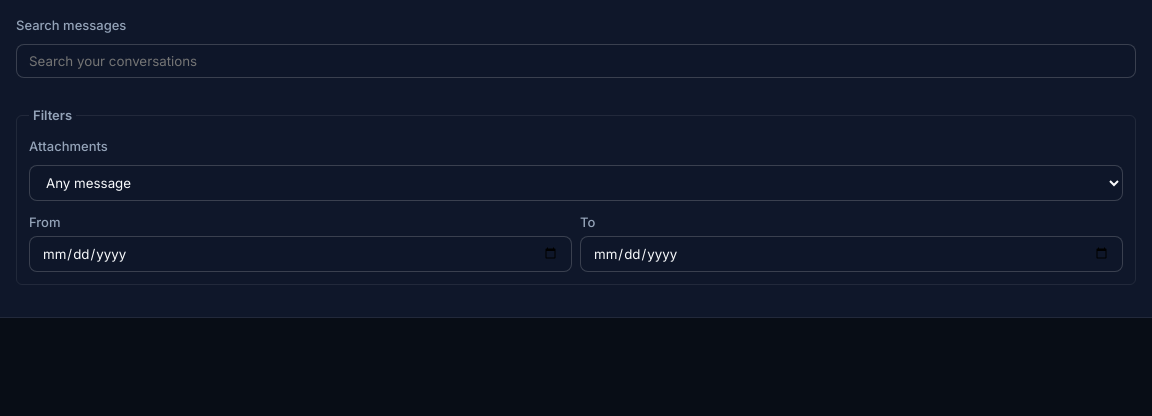
Test: querying › hides previous results once the query becomes too short again
The width and height of the screenshot is (1152, 416).
Type "deploy" into the search field with test id "search-input". click: point(576, 60)
box: [16,44,1136,78]
Wait 300 ms
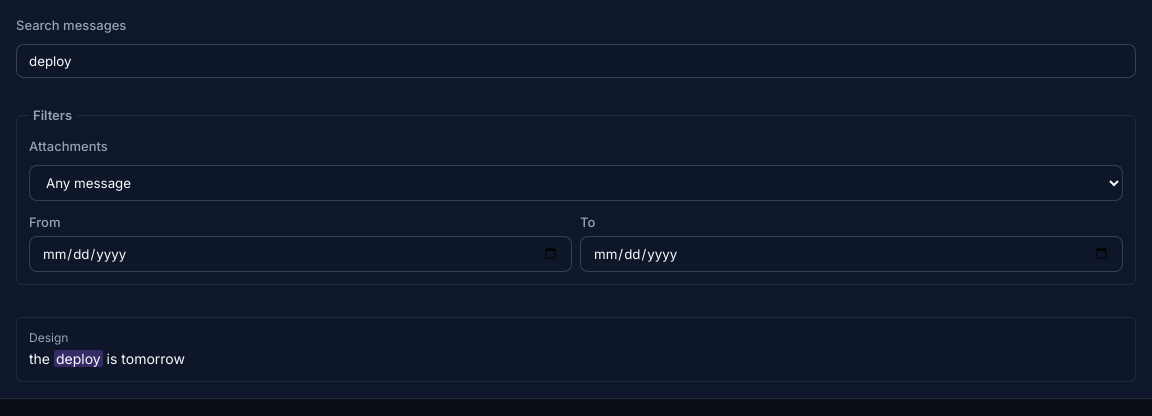
Result: the list with test id "search-results" is shown at [16,317,1136,382]
Replace the text in the search field with test id "search-input" with "d". click: point(576, 60)
box: [16,44,1136,78]
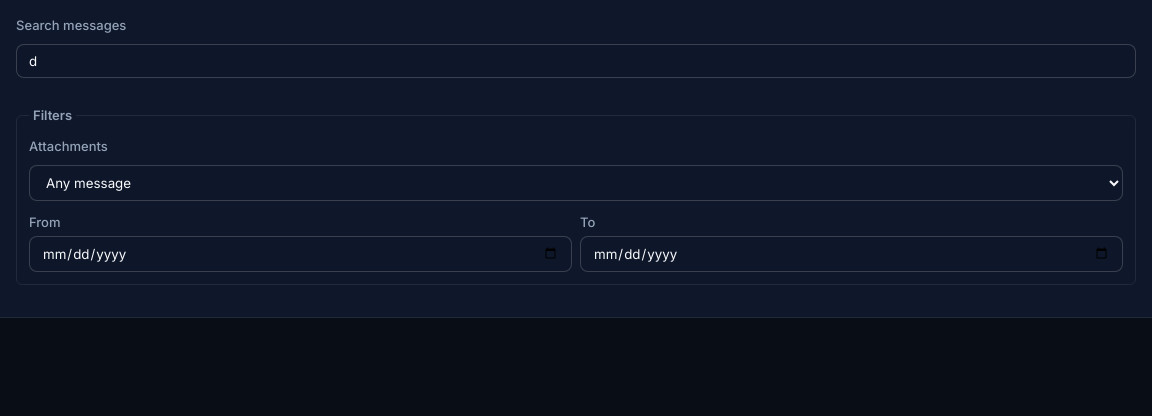
Result: the list with test id "search-results" is gone
